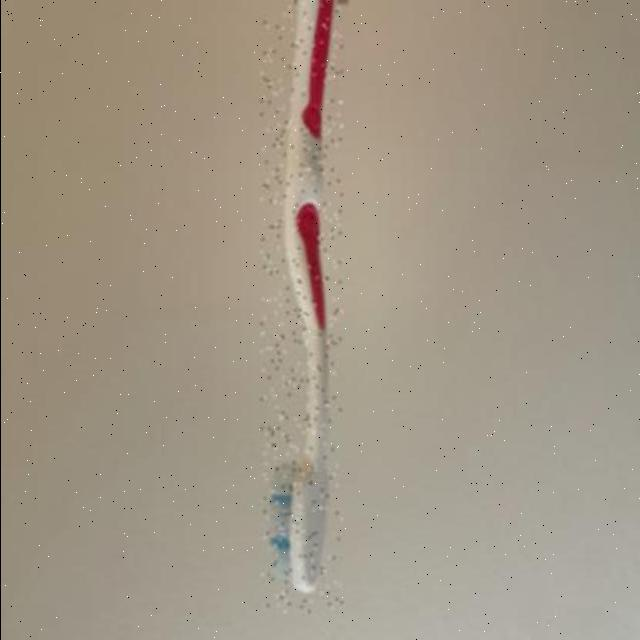toothbrush: (260, 0, 342, 612)
